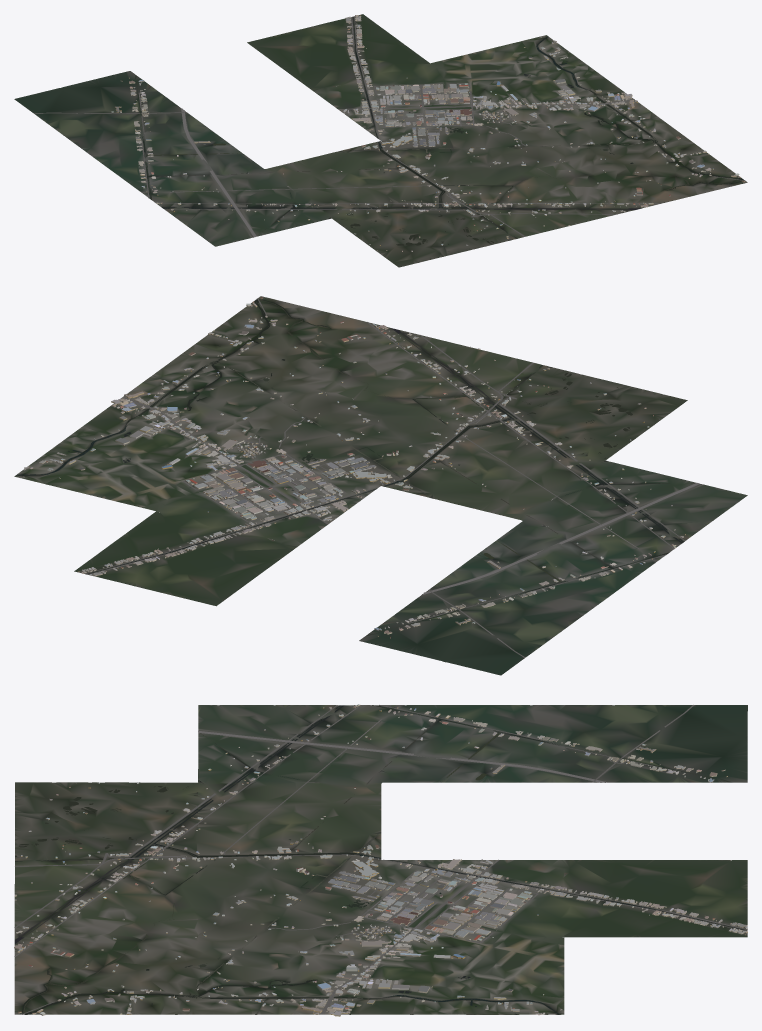
3 renders of one model, top to bottom at view 1: azimuth 30°, elevation 25°; view 2: azimuth 150°, elevation 25°; view 3: azimuth 270°, elevation 25°, orthographic. The views are drawn at different scales.
Visible parts, largest first — view 1: ground, buildings, roads, water; view 2: ground, buildings, roads, water; view 3: ground, buildings, roads, water.
Boxes of the visible parts, bbox=[...] form: ground: bbox=[14, 14, 747, 267]; buildings: bbox=[111, 14, 745, 251]; roads: bbox=[34, 16, 745, 237]; water: bbox=[135, 23, 744, 251]; ground: bbox=[14, 296, 747, 675]; buildings: bbox=[23, 297, 685, 638]; roads: bbox=[84, 298, 699, 657]; water: bbox=[16, 299, 694, 635]; ground: bbox=[14, 705, 747, 1014]; buildings: bbox=[14, 704, 747, 1016]; roads: bbox=[14, 705, 747, 1014]; water: bbox=[15, 705, 730, 1014].
Size of the model in its own units: 5639 by 31.32 by 5611.
